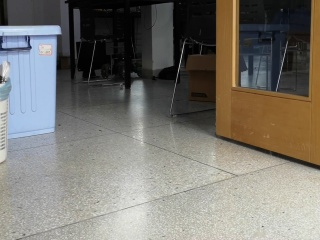room: (4, 1, 320, 184)
